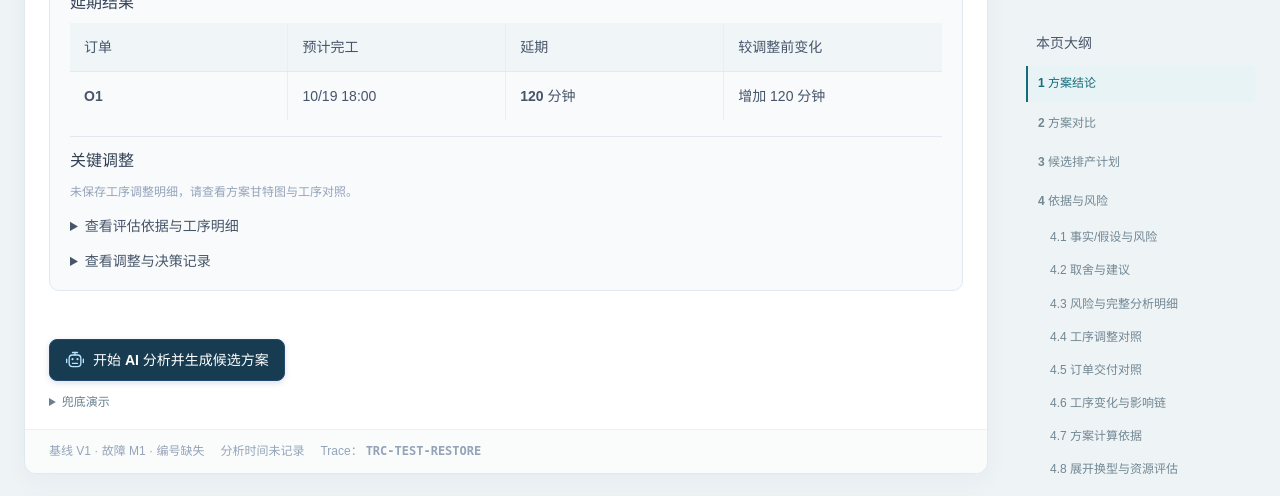
Scenario: Schedule Copilot workflow › opens AI details when an older published fault has only a legacy report
(page scrolled)
Click the button "开始 AI 分析并生成候选方案".
click(167, 360)  # box [49,339,285,382]
(page scrolled)
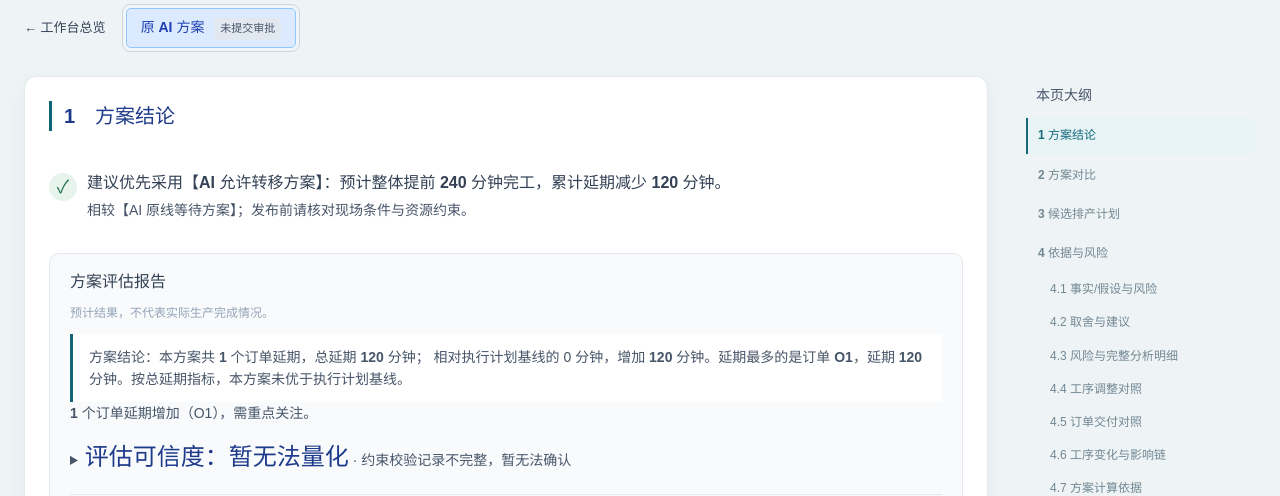
Click the button "← 工作台总览".
click(65, 28)  # box [24,14,106,43]
(page scrolled)
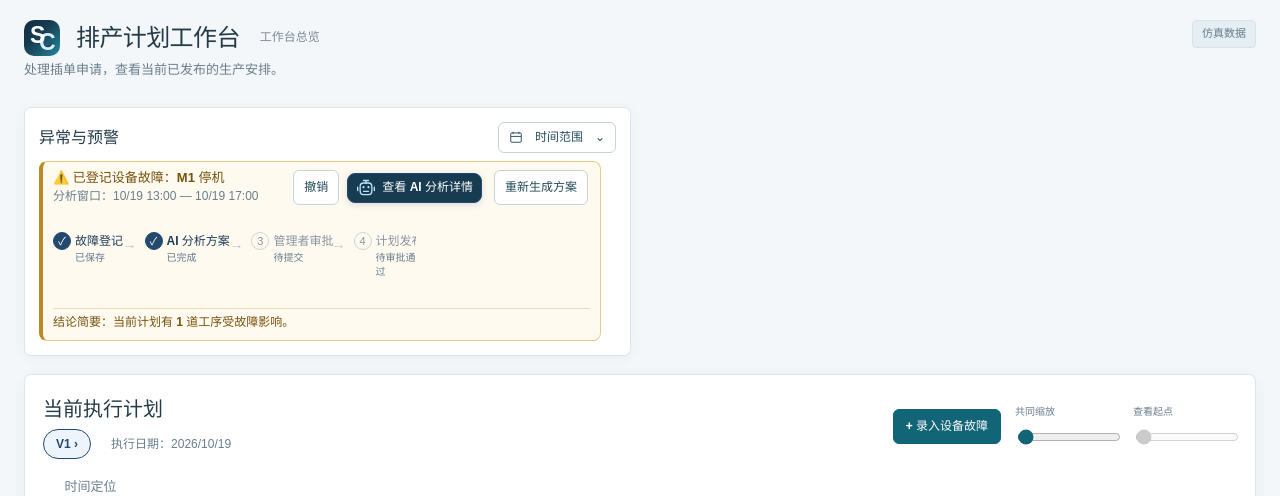
Click the button "查看 AI 分析详情".
click(415, 188)  # box [347,173,482,203]
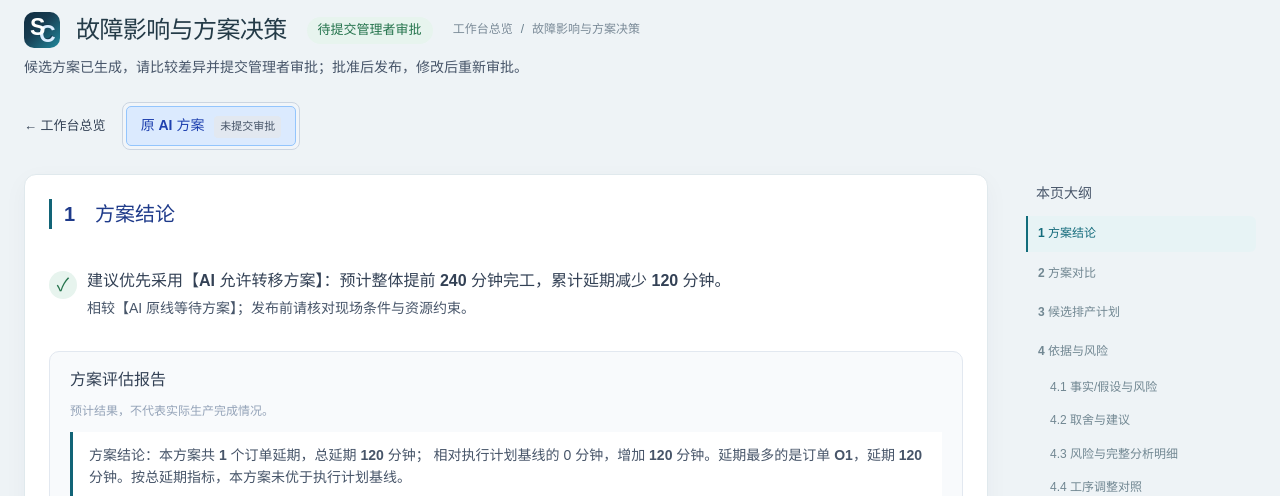
Result: the heading "S C 故障影响与方案决策" is shown at [24,12,287,48]
Click the button "← 工作台总览".
click(65, 126)  # box [24,112,106,141]
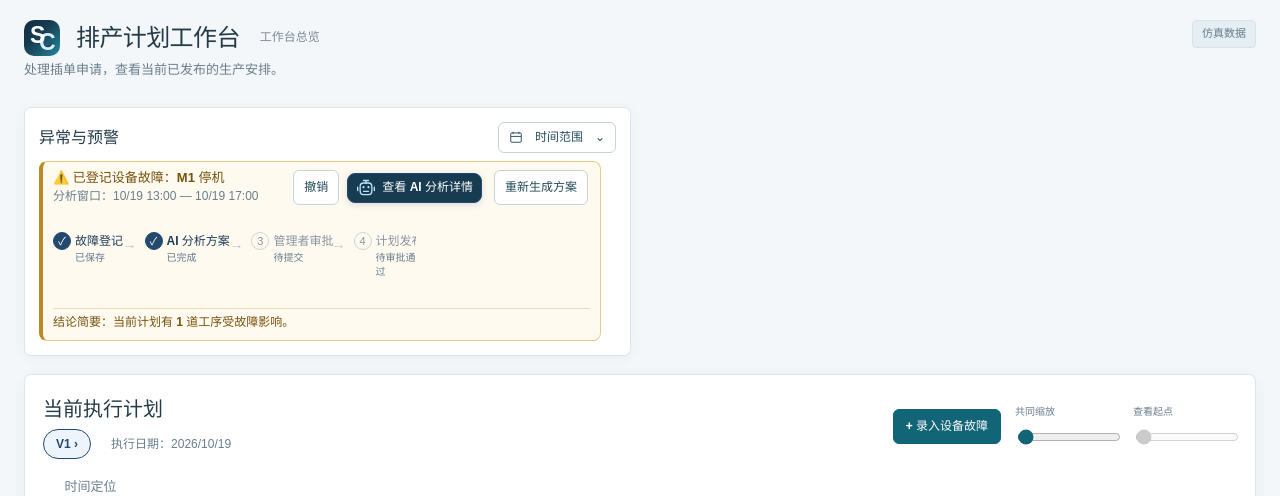
Result: the heading "S C 排产计划工作台" is shown at [24,20,240,56]
